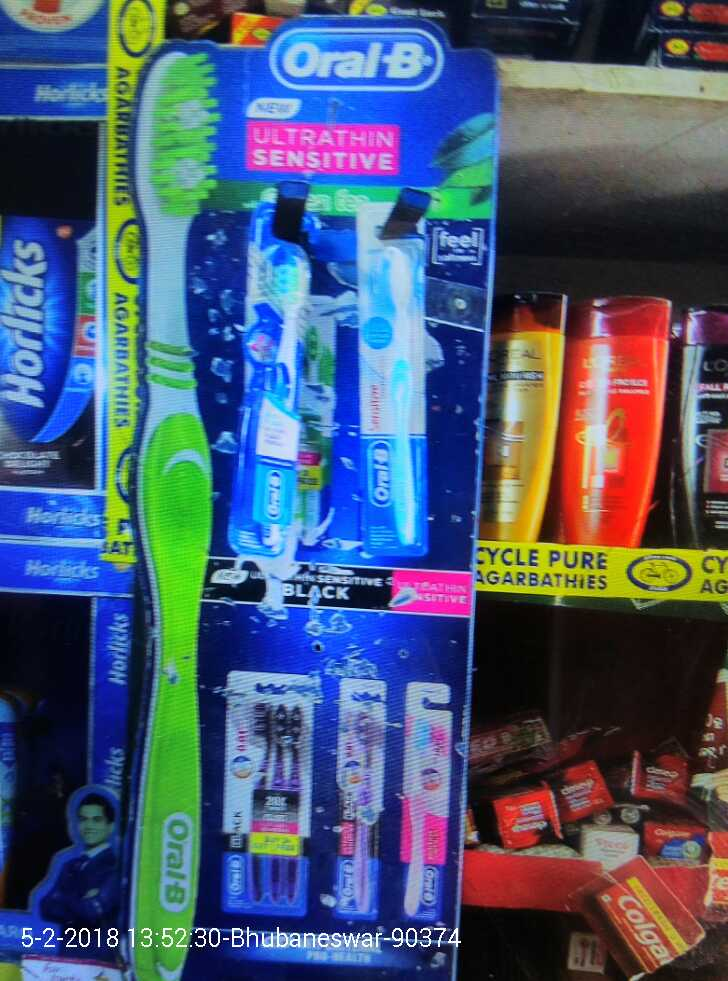oralb: (227, 667, 315, 916), (245, 242, 313, 562), (359, 242, 427, 557), (332, 679, 385, 925), (405, 683, 449, 923)
